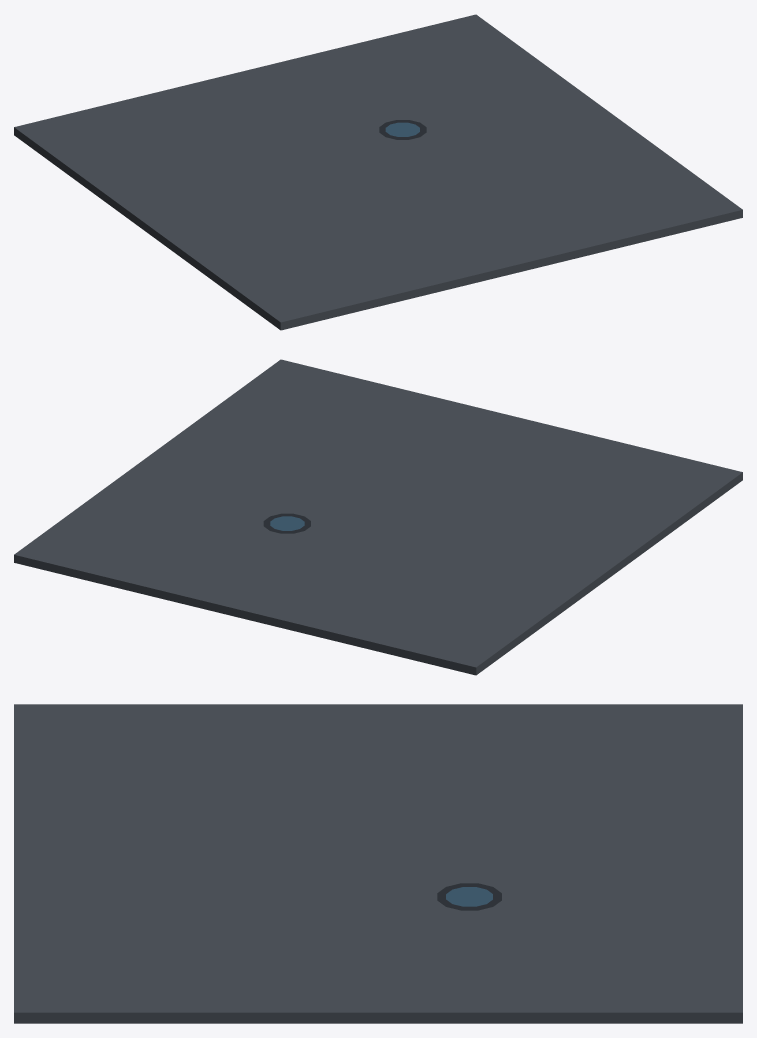
The model's file is CM_Road_Intersection.fbx.
3 views of the same model, one above another, from view 1: azimuth 30°, elevation 25°; view 2: azimuth 150°, elevation 25°; view 3: azimuth 270°, elevation 25° (orthographic). The views are drawn at different scales.
Parts seen in each view (by area): view 1: Road; view 2: Road; view 3: Road.
Boxes of the visible parts, box(x1,y1,x2,y2) form: Road: box(14, 14, 742, 330); Road: box(14, 359, 742, 675); Road: box(14, 704, 742, 1023).
Bounding box in the file's own units: 24 × 24 × 0.406.
1 material, 1 textured.
